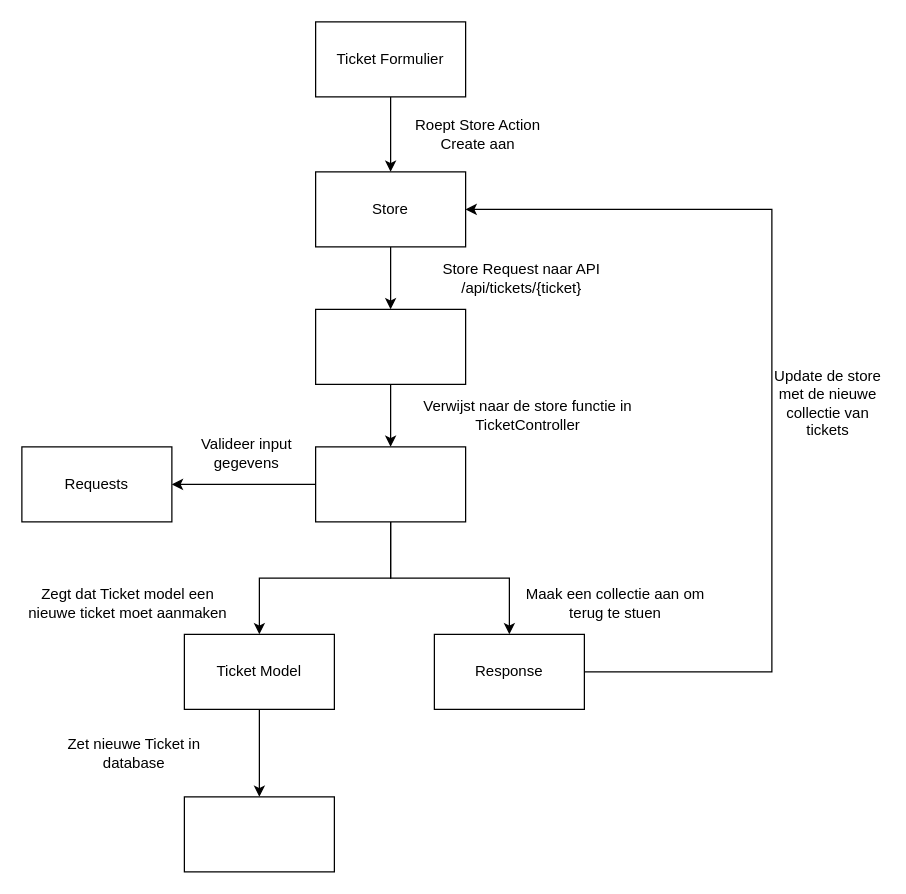
Some shapes in this 906 by 894 pixel diagram are drawn without their labels. Here are the shapes that lost their labels. From the top down, the centre of each, then its label:
At point 390,346: "API Routes".
At point 390,484: "TicketController".
At point 258,834: "Database".
